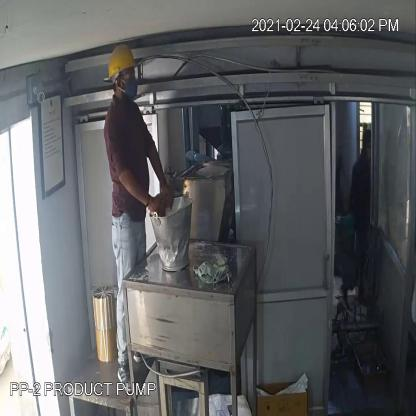helmet: (104, 38, 138, 80)
